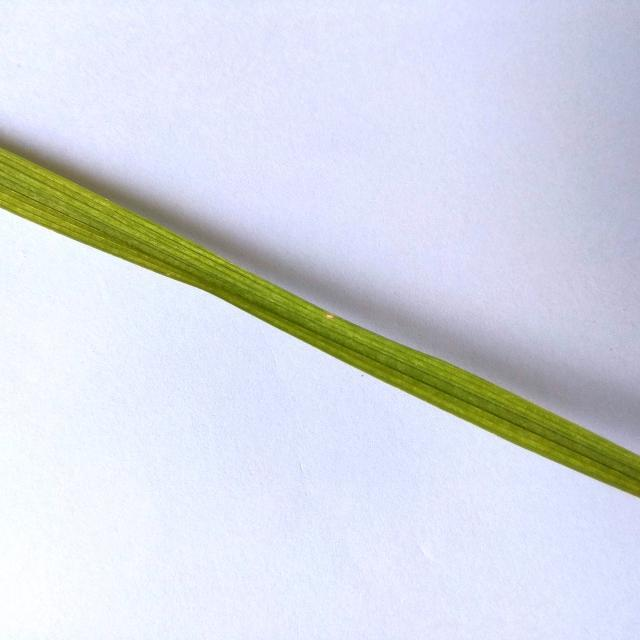Blast: (324, 308, 336, 326)
